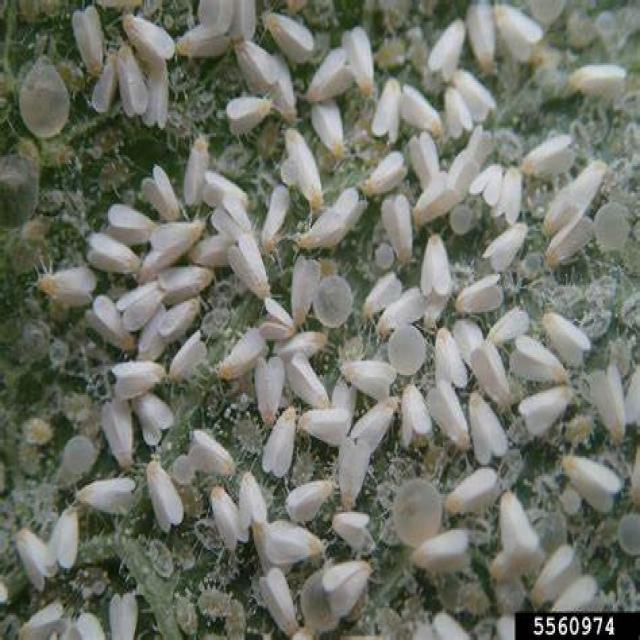Whitefly: (12, 3, 640, 610)
